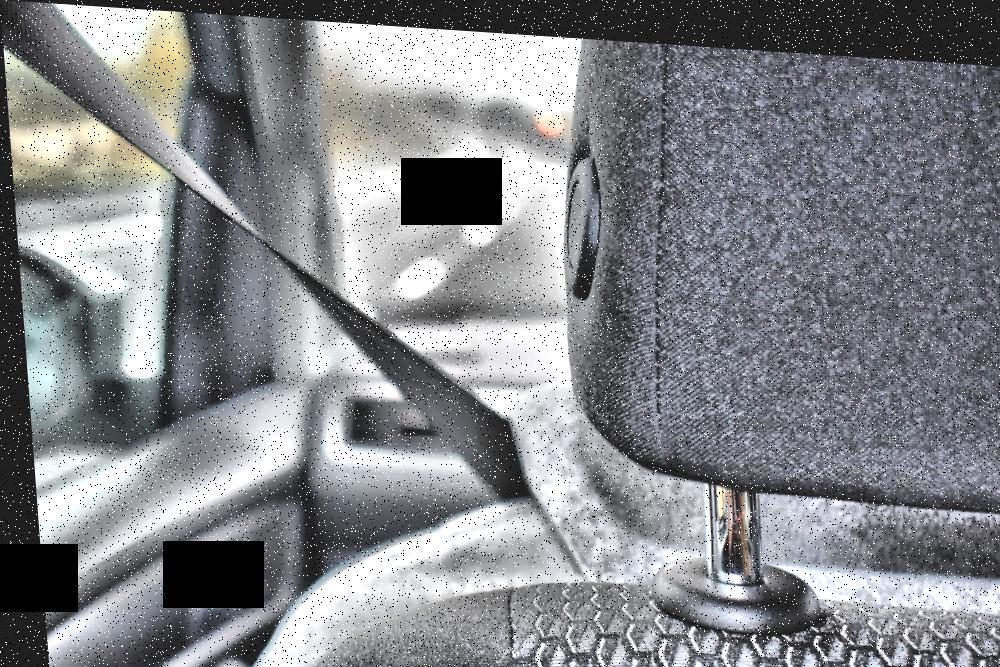seatbelt: (4, 6, 520, 484)
